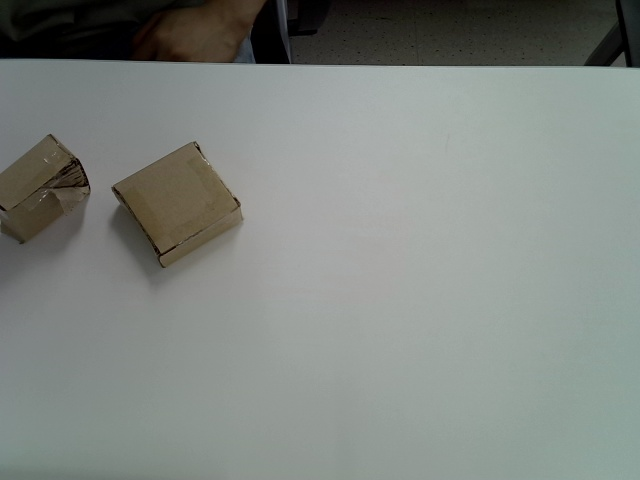defect: (1, 133, 93, 244)
normal: (112, 142, 245, 269)
